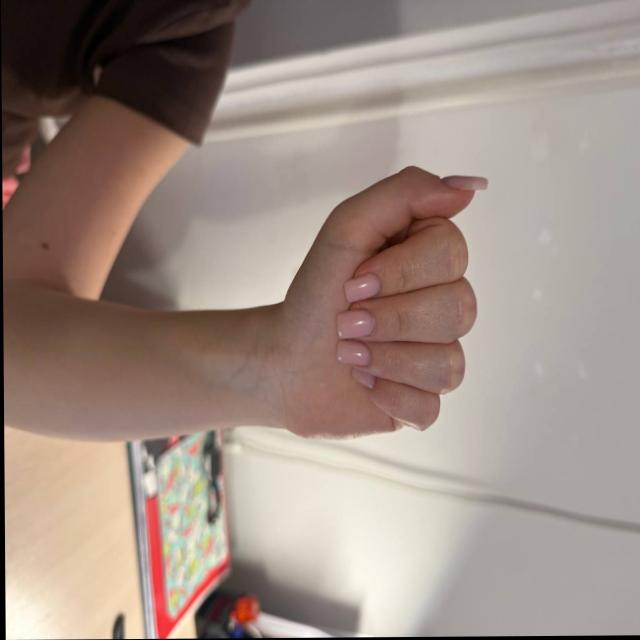a: (298, 159, 498, 454)
